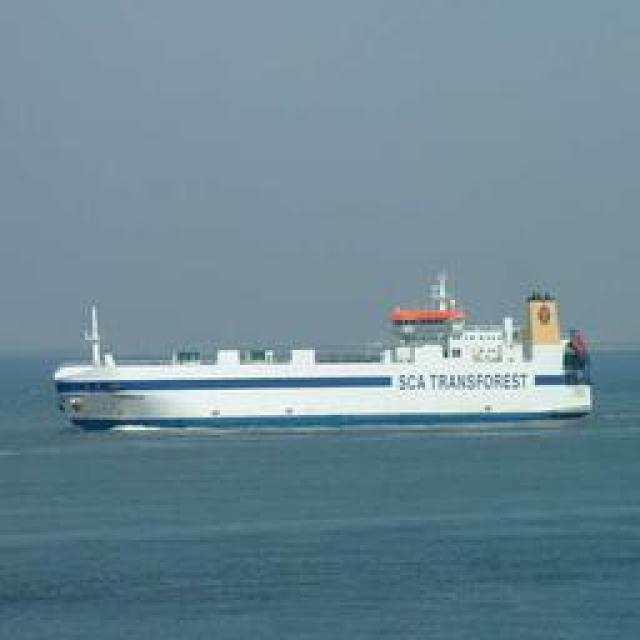ship2: (53, 270, 595, 432)
